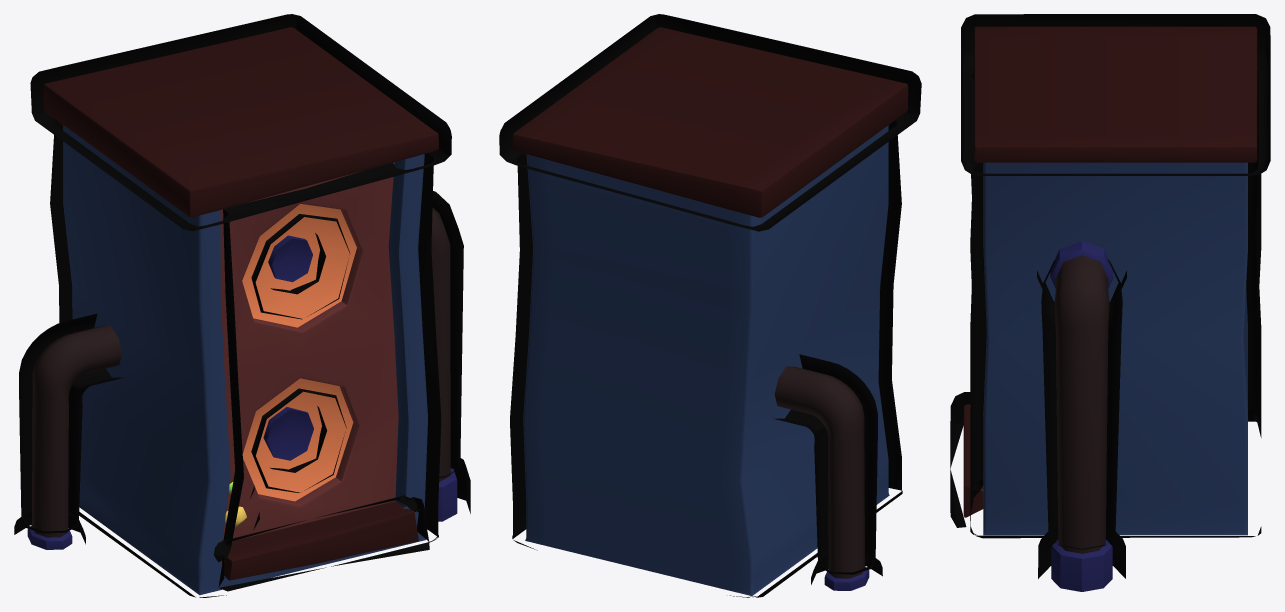
File: machine_sound.FBX
The picture shows the model from 3 angles, left to right: view 1: azimuth 30°, elevation 25°; view 2: azimuth 150°, elevation 25°; view 3: azimuth 270°, elevation 25°; orthographic projection. The views are drawn at different scales.
Parts seen in each view (by area): view 1: machine1; view 2: machine1; view 3: machine1.
Part boxes in pixels (x1,y1,x2,y2): machine1: (14,14,470,597); machine1: (499,14,921,597); machine1: (950,14,1270,591).
Size of the model in its own units: 5.04 by 5.33 by 3.61.
